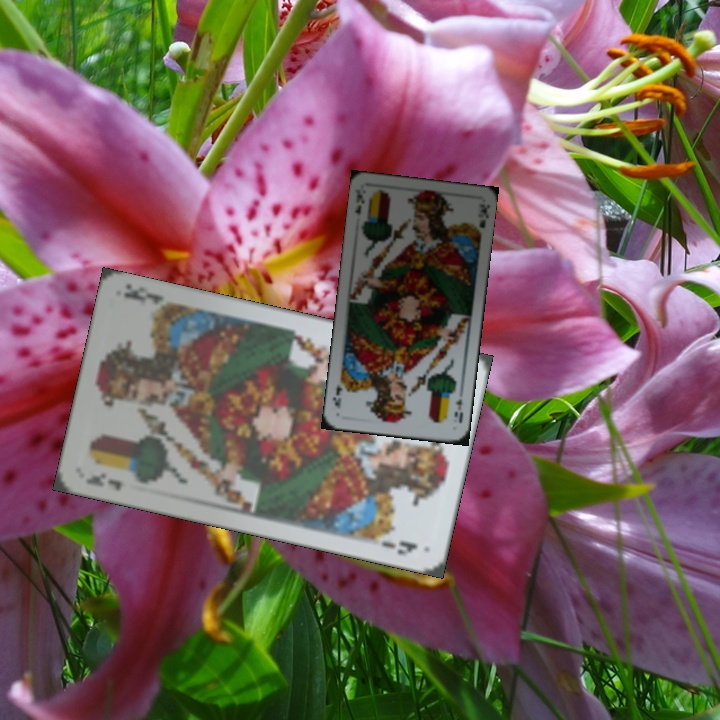EK: (82, 468, 126, 493), (351, 185, 367, 219), (450, 395, 466, 426)
